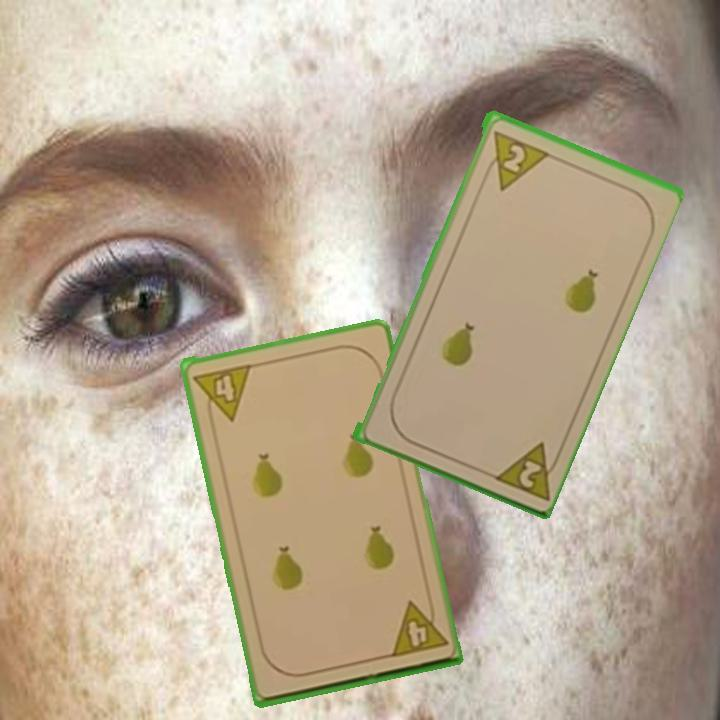2p: (487, 437, 565, 503), (480, 125, 549, 193)
4p: (190, 360, 255, 427), (386, 594, 451, 660)
